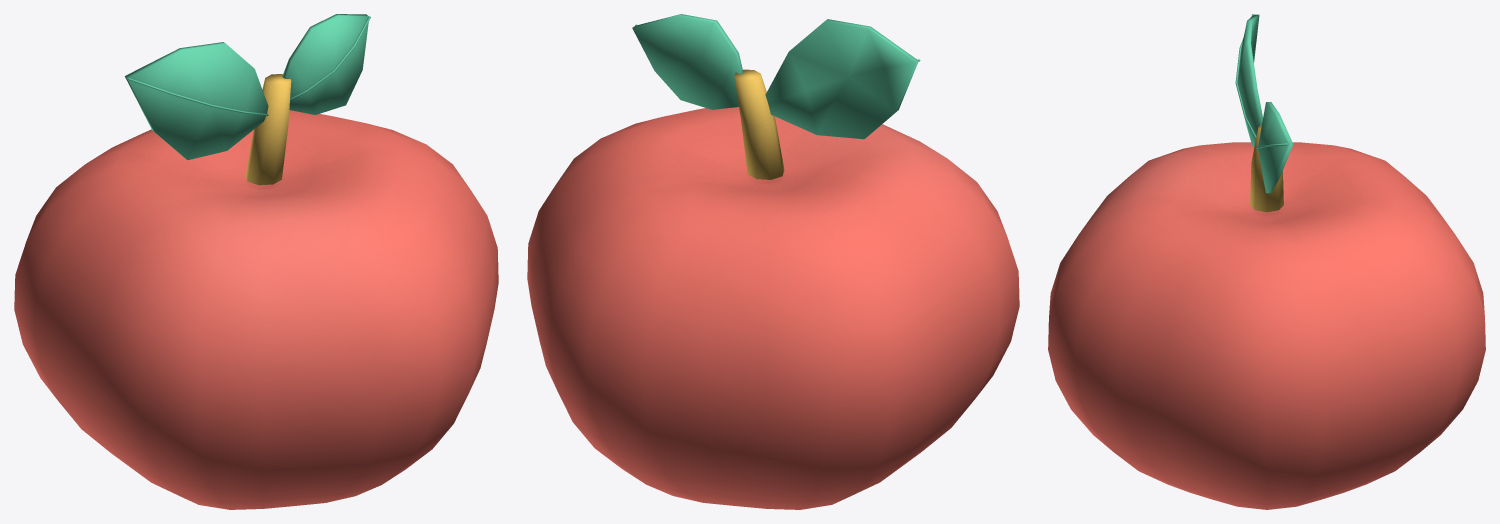
File: SM_L1_Apple_A.fbx
3 renders of one model, left to right at view 1: azimuth 30°, elevation 25°; view 2: azimuth 150°, elevation 25°; view 3: azimuth 270°, elevation 25°, orthographic. The views are drawn at different scales.
Visible parts, largest first — view 1: SM_L1_Apple_A; view 2: SM_L1_Apple_A; view 3: SM_L1_Apple_A.
Boxes of the visible parts, x1,y1,x2,y2 form: SM_L1_Apple_A: (14,14,498,509); SM_L1_Apple_A: (527,14,1019,509); SM_L1_Apple_A: (1048,14,1485,509).
Bounding box in the file's own units: 0.675 × 0.7 × 0.675.
